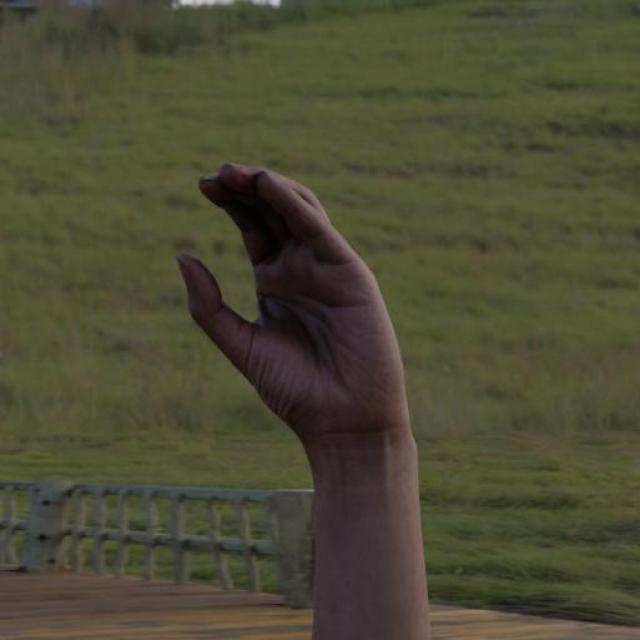C: (172, 149, 423, 441)
